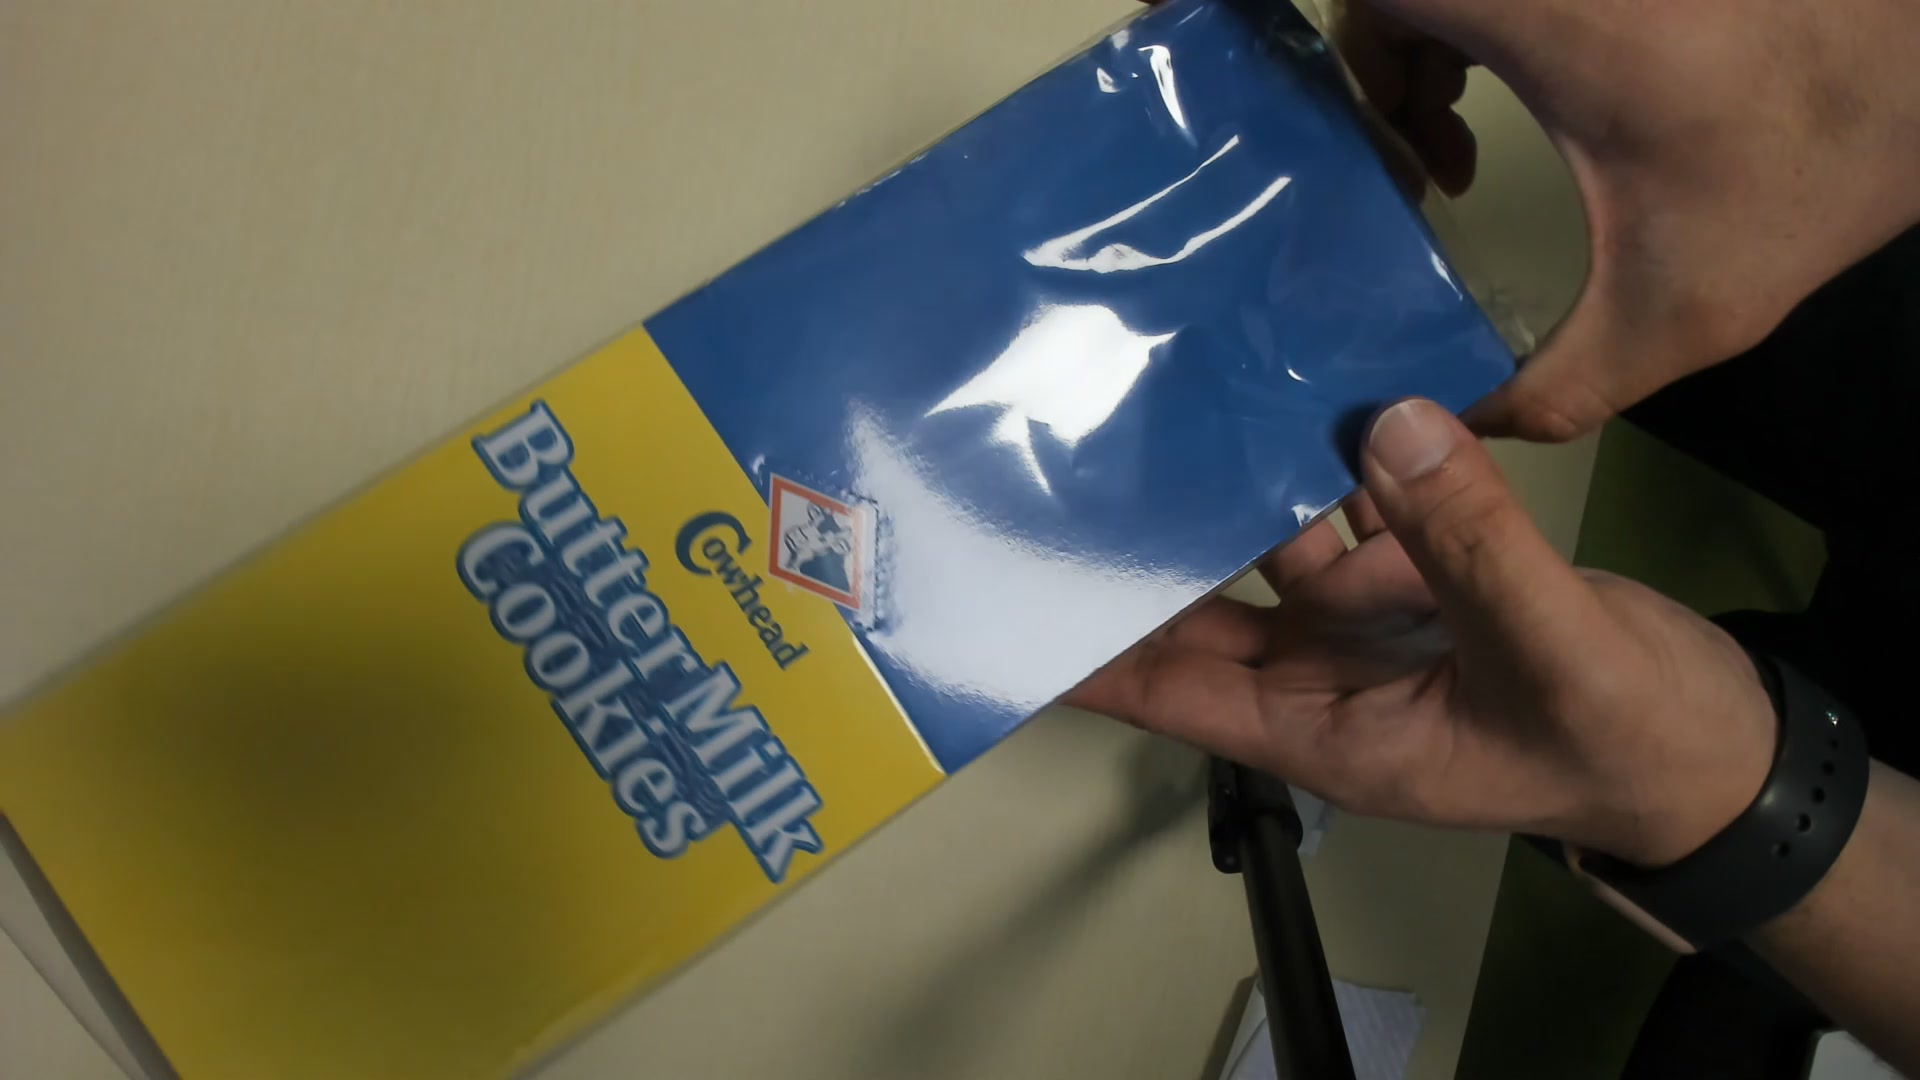SweetsChocolatesOthers_200-299g_Halal_Nonhealthy: (7, 1, 1523, 1080)
